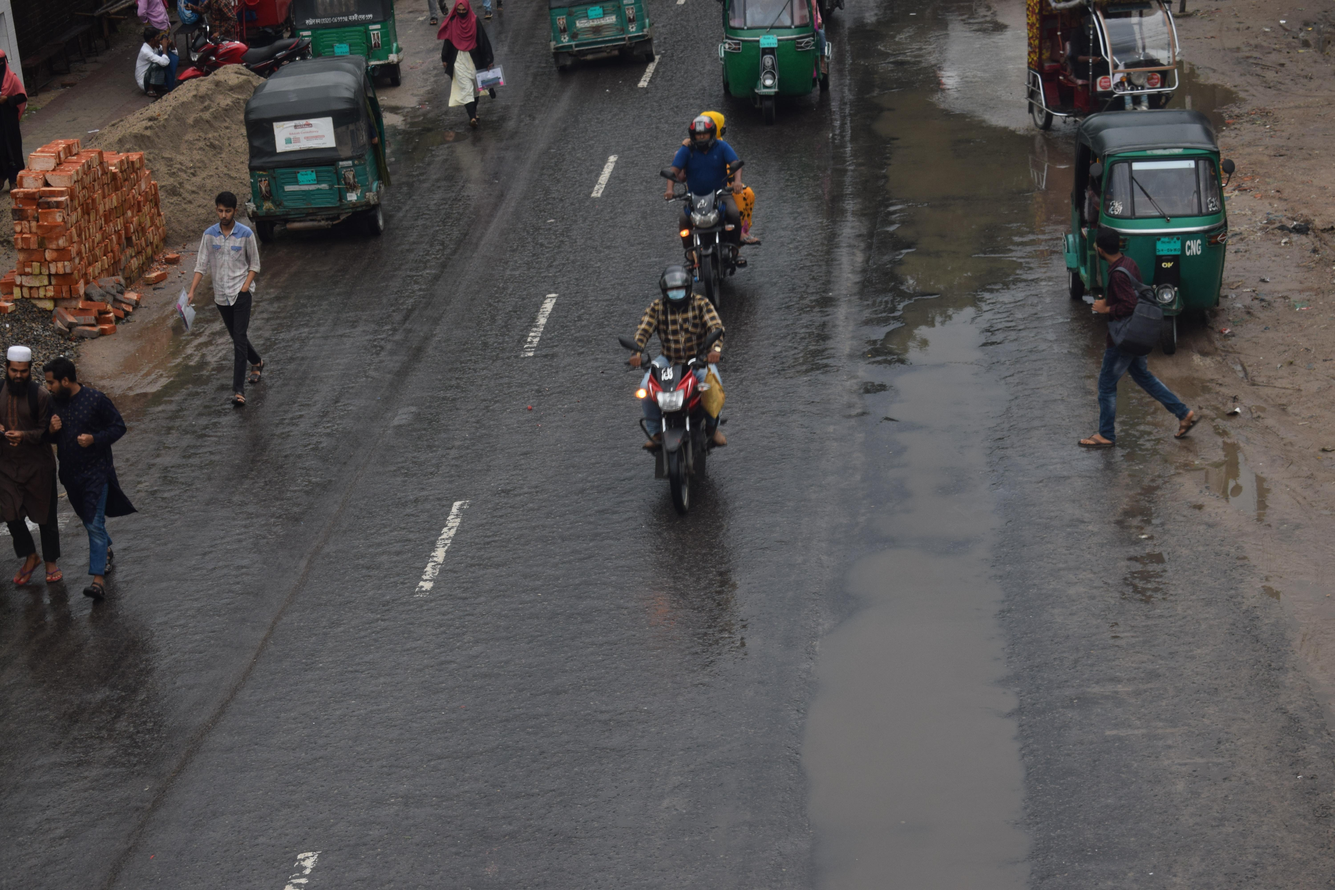Bike: (584, 234, 779, 551), (623, 77, 801, 334)
Car: (993, 0, 1216, 140)
